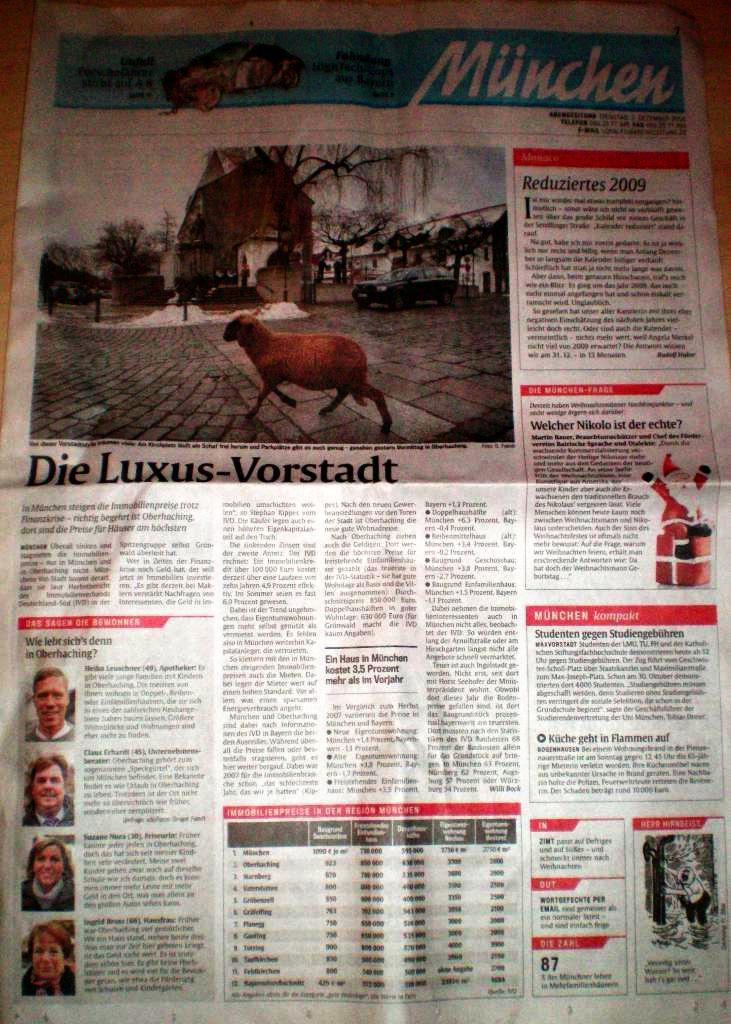Sheep: (226, 310, 390, 428)
